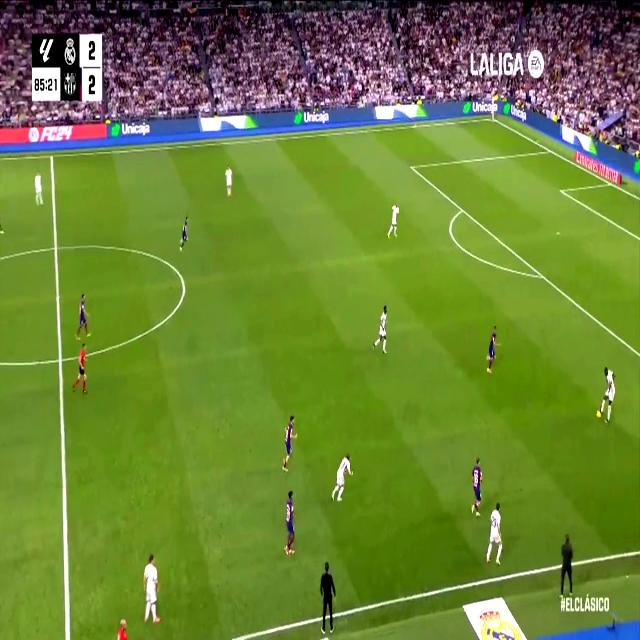bigarea_top_inner: (408, 161, 414, 172)
bigarea_top_outter: (546, 143, 554, 156)
bottom_arc_area_intersection: (537, 266, 547, 284)
corner: (488, 114, 496, 122)
halfcircle_bottom: (54, 345, 66, 373)
halfcircle_top: (49, 234, 62, 261)
midline_top_intersection: (48, 150, 56, 163)
smallarea_top_inner: (558, 184, 564, 196)
top_arc_area_intersection: (458, 202, 466, 216)
